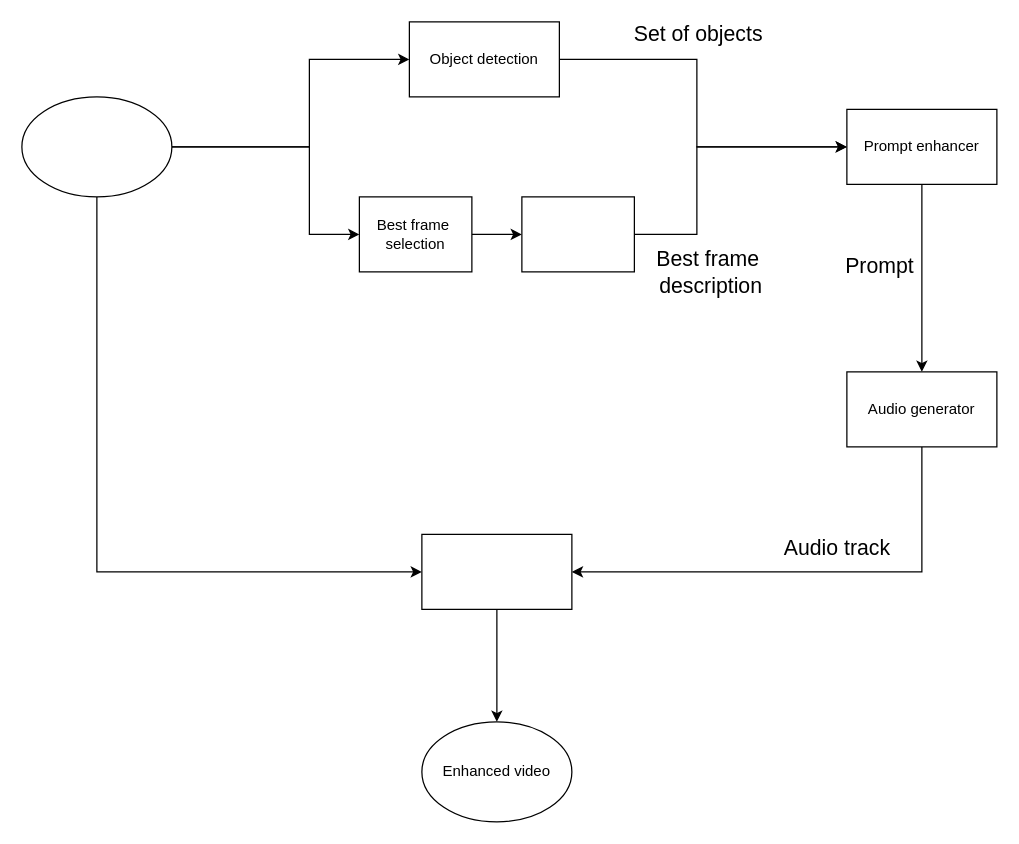
Some shapes in this 1019 by 844 pixel diagram are drawn without their labels. Each missing label, with the centre of its shape:
"Frame description" belongs at (x=577, y=234).
"Reconstructor" belongs at (x=496, y=571).
"Video" belongs at (x=96, y=146).
